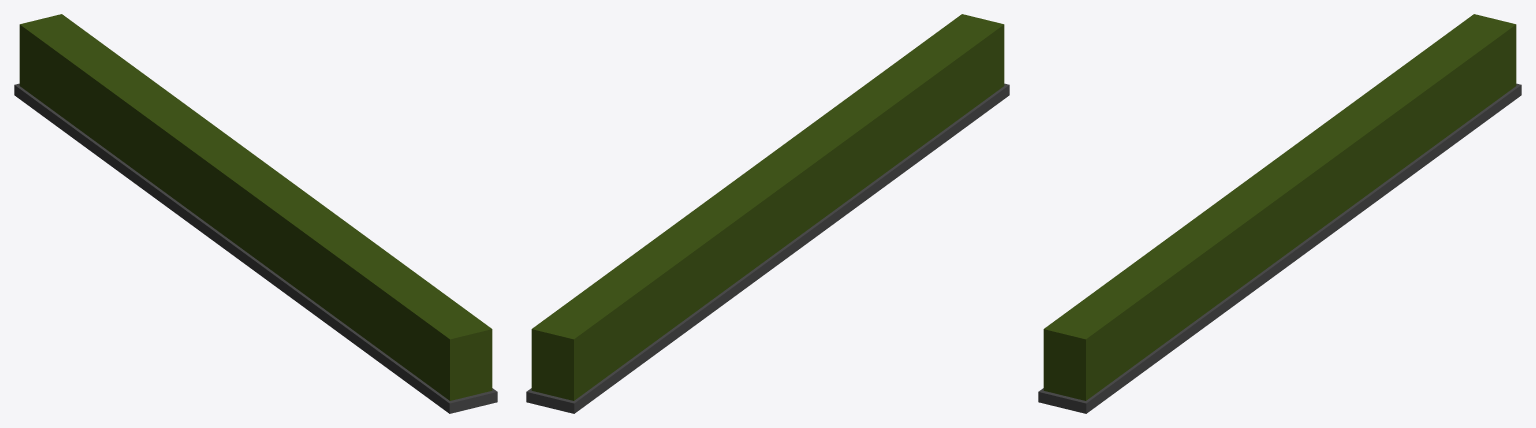
The model's file is HedgeToUse.fbx.
3 renders of one model, left to right at view 1: azimuth 30°, elevation 25°; view 2: azimuth 150°, elevation 25°; view 3: azimuth 330°, elevation 25°, orthographic.
Parts seen in each view (by area): view 1: Cube.001, Cube; view 2: Cube.001, Cube; view 3: Cube.001, Cube.
Part boxes in pixels (x1,y1,x2,y2): Cube.001: (19, 14, 492, 400); Cube: (14, 83, 497, 413); Cube.001: (531, 14, 1004, 400); Cube: (526, 83, 1009, 413); Cube.001: (1043, 14, 1516, 400); Cube: (1038, 83, 1521, 413).
Bounding box in the file's own units: 72.58 × 104 × 1141.
